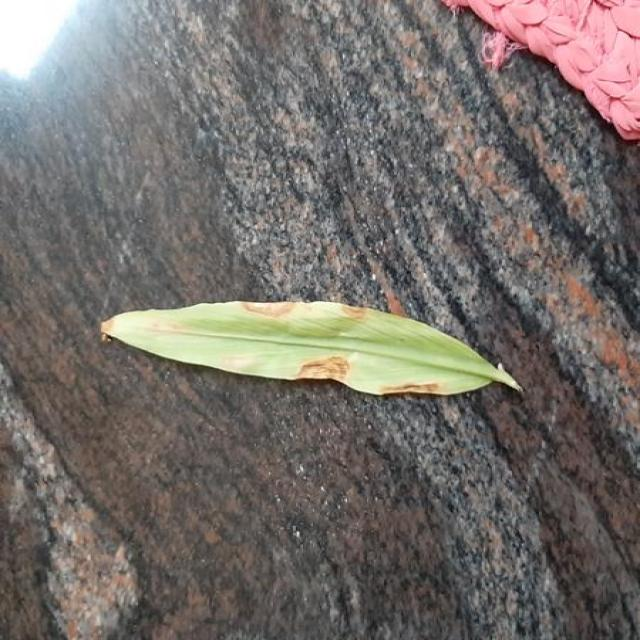ginger: (102, 301, 522, 395)
